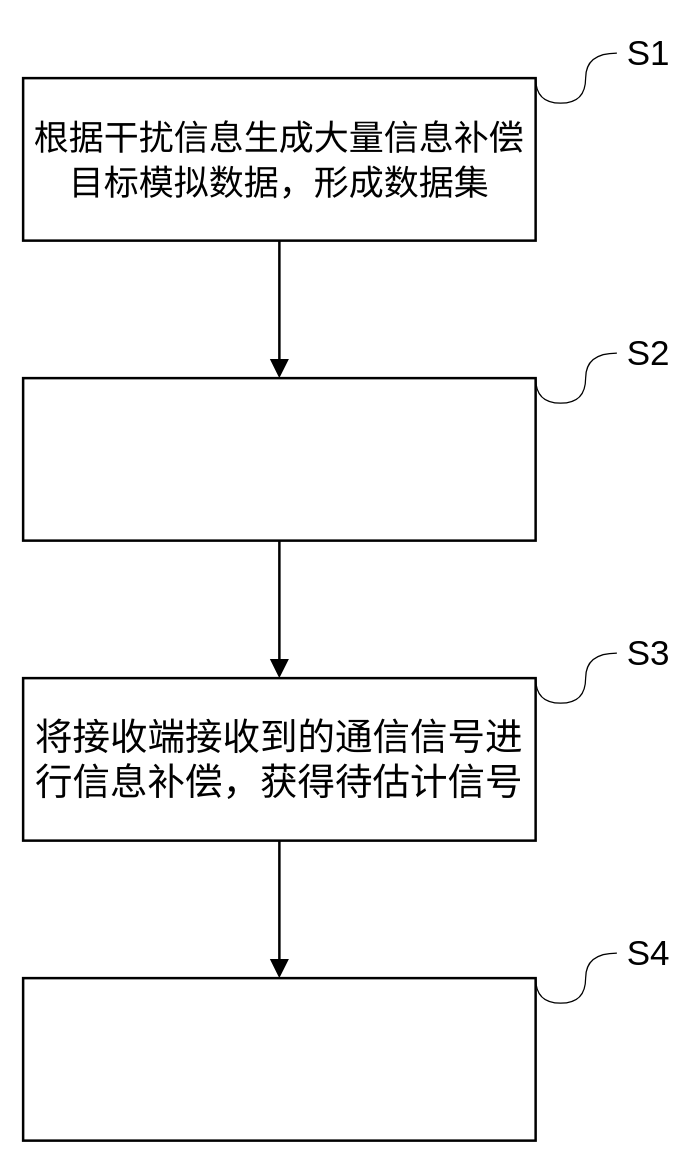
The diagram is 700 pixels wide and 1163 high, and some of its shapes have lost their labels. Each missing label, with the centre of its shape:
将待估计信号送入送入 全连接神经网络，获得感知参数估计: (x=278, y=1058)
针对数据集，根据给定的参数训练 全连接神经网络，获得训练的全连接神经网络: (x=278, y=458)
